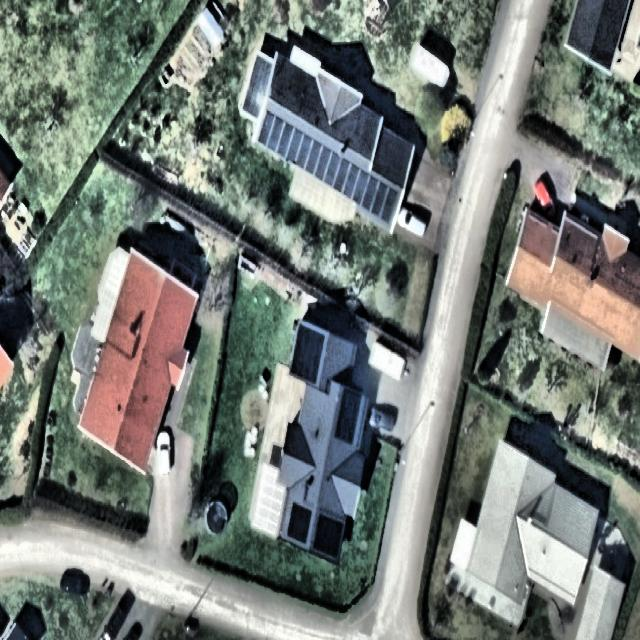roof_pv: (290, 318, 328, 385), (335, 381, 366, 448), (288, 122, 320, 184), (259, 108, 287, 162), (346, 158, 373, 212), (373, 170, 397, 229), (312, 514, 342, 558), (320, 144, 344, 194), (286, 501, 312, 547)
